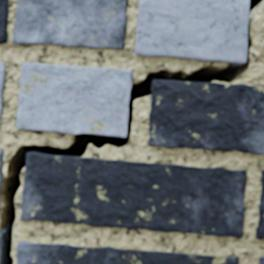brick: (21, 152, 245, 237), (148, 80, 263, 154), (17, 63, 132, 137), (135, 0, 248, 63), (12, 0, 127, 49), (17, 241, 238, 263), (255, 170, 263, 237), (0, 0, 8, 43), (0, 62, 5, 127), (0, 148, 3, 204), (0, 230, 3, 263), (259, 256, 263, 263)
crack: (0, 0, 263, 263)
